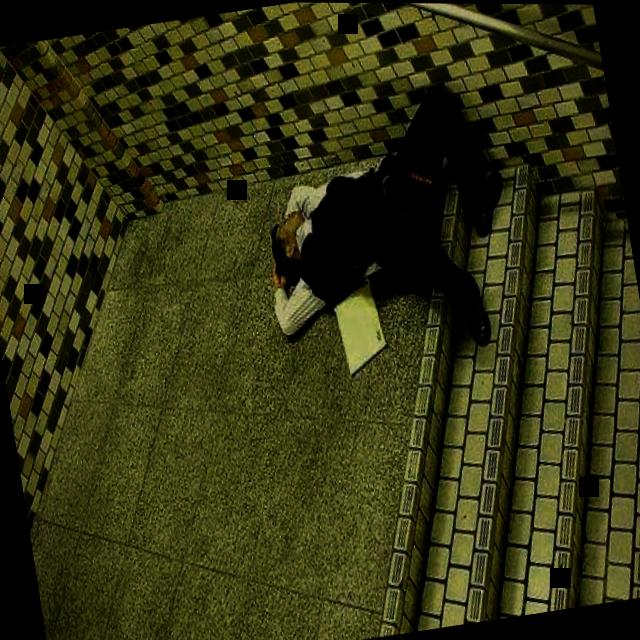Fall-Detected: (233, 49, 537, 380)
